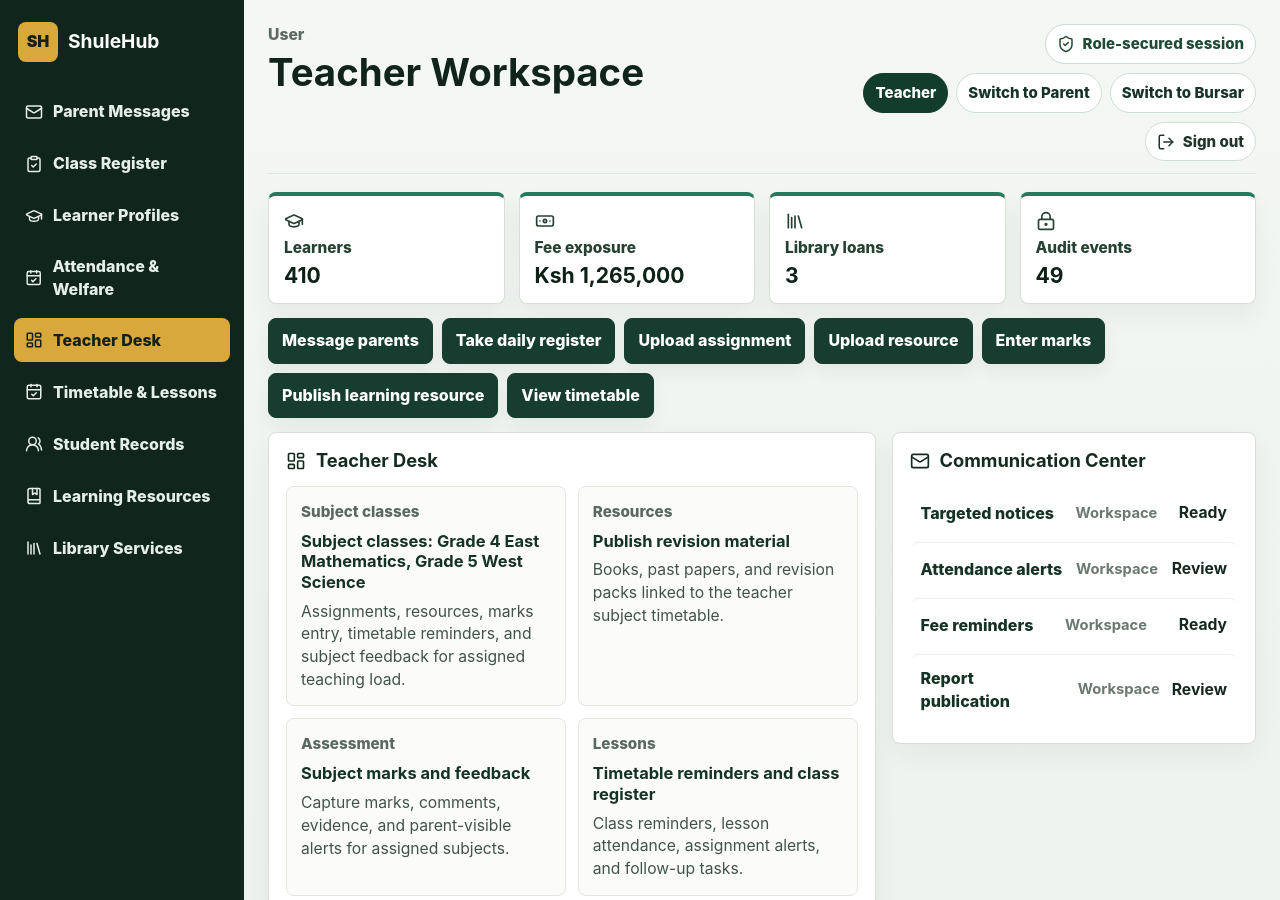
Test case: App › multi-role users can switch the active workspace after login
Expected: the heading "Teacher Workspace" is shown, [268, 52, 644, 92]
Click the button "Switch to Parent": x=1029, y=93 [956, 73, 1102, 113]
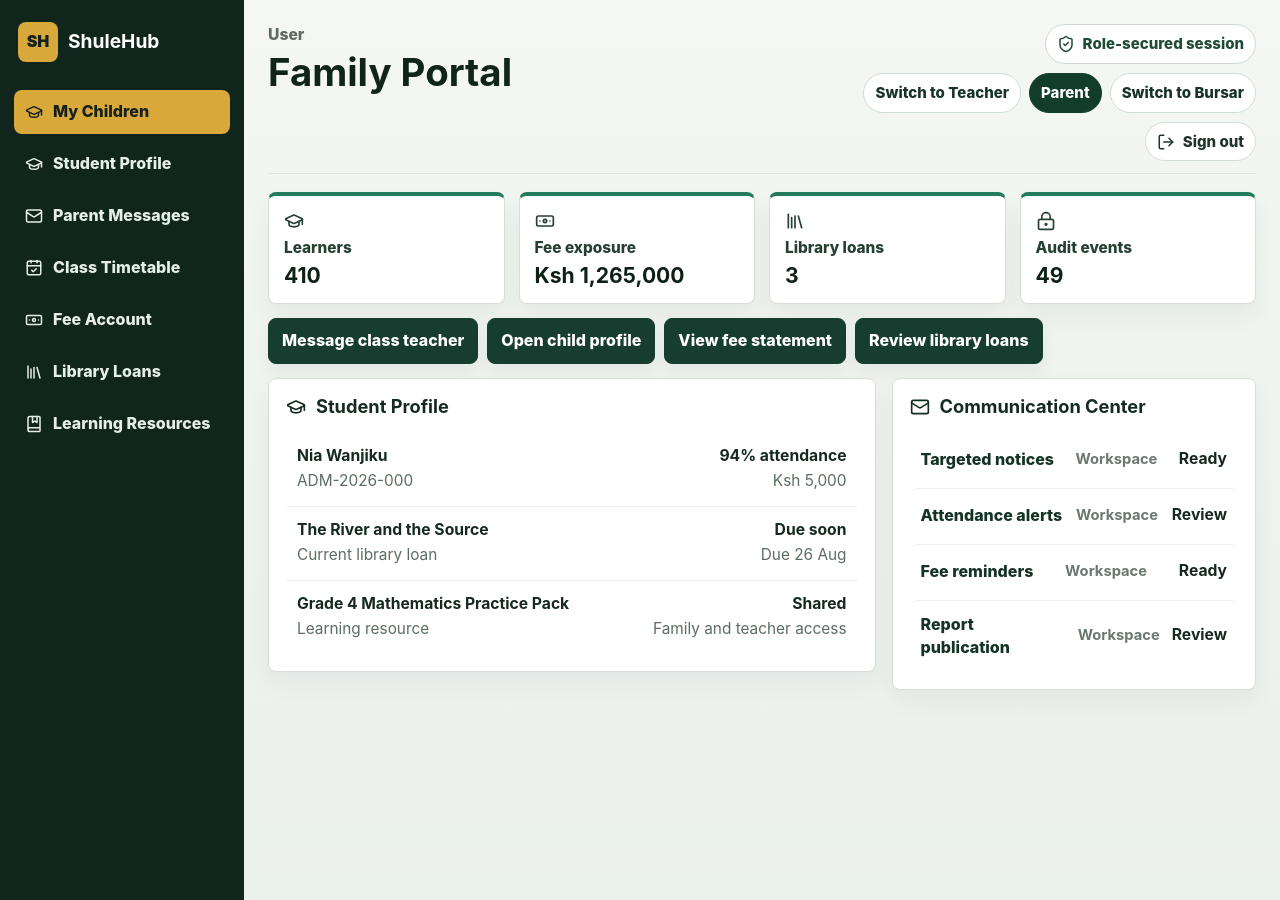
Now the heading "Family Portal" is shown, box [268, 52, 512, 92]
Click the button "Switch to Bursar": x=1183, y=93 [1110, 73, 1256, 113]
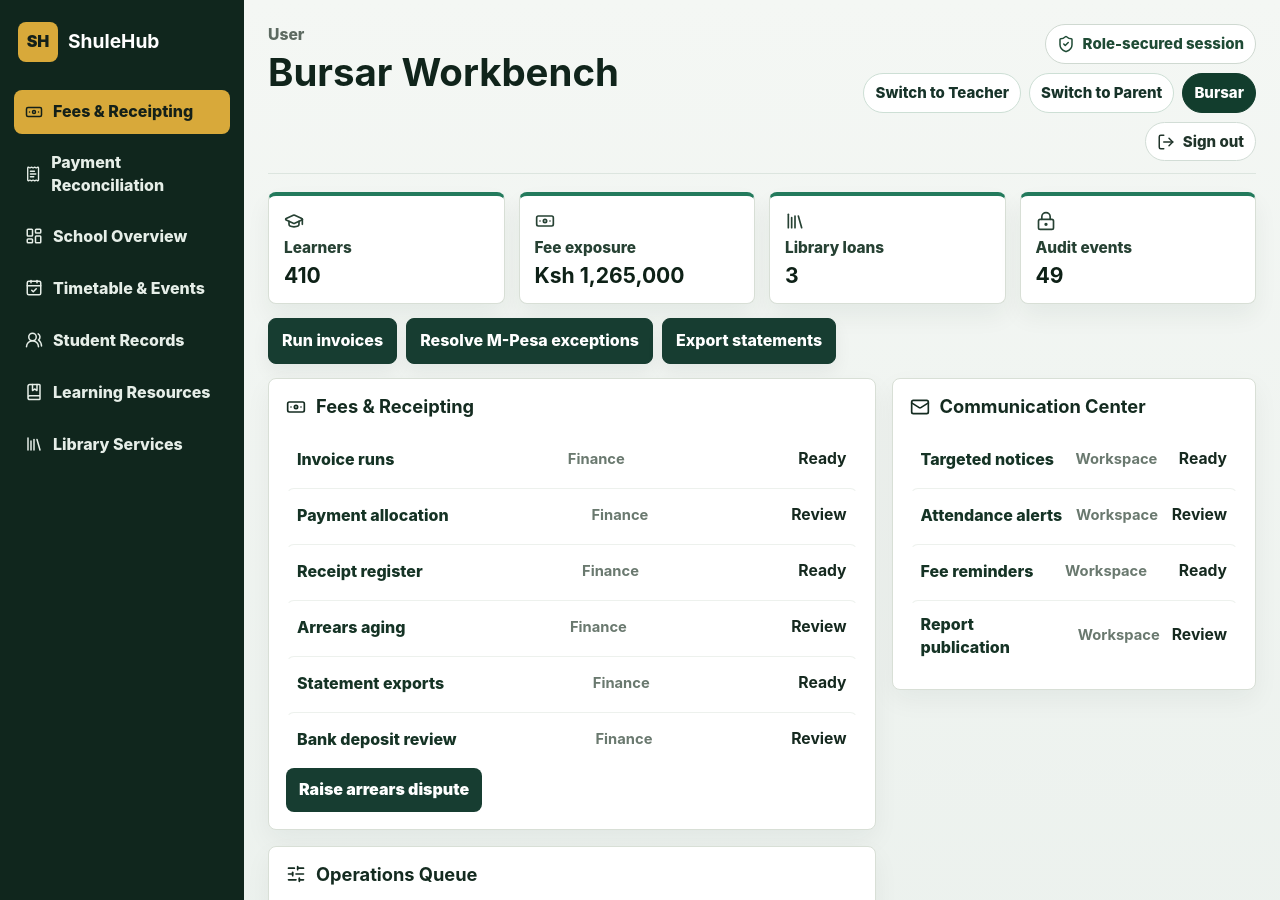
Now the heading "Bursar Workbench" is shown, box [268, 52, 619, 92]
